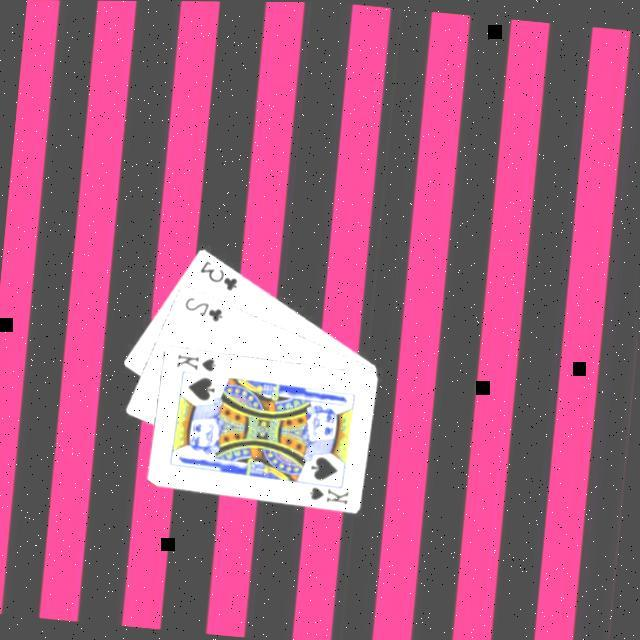2C: (178, 294, 226, 326)
3C: (193, 257, 242, 295)
KS: (301, 479, 351, 507), (171, 350, 219, 375)
